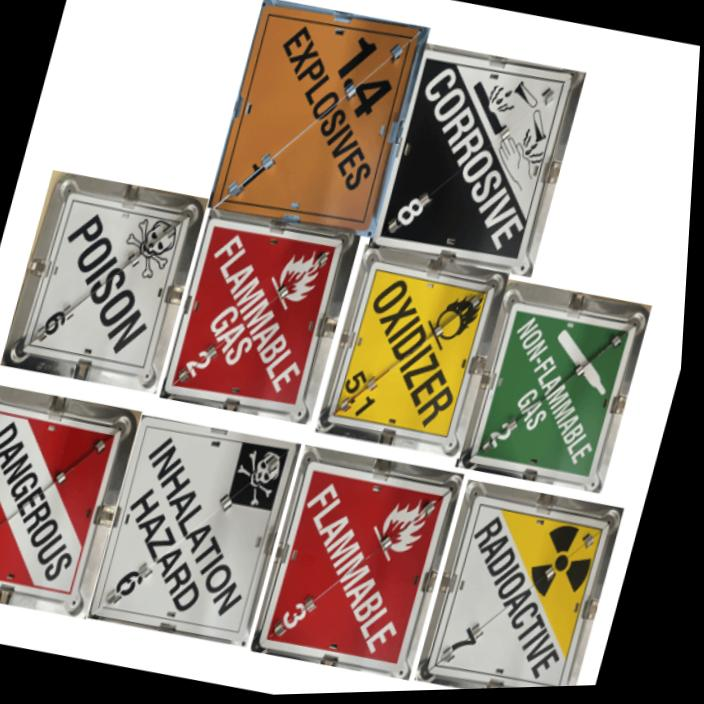bathroom sign: (210, 2, 426, 230)
bench: (164, 216, 351, 420)
building map: (463, 284, 645, 489)
can and bottle trash cans: (260, 463, 449, 670)
defibrillator: (333, 269, 491, 437)
door: (91, 418, 297, 641), (19, 188, 188, 380)
doorway: (430, 489, 609, 688)
elevator buttons: (376, 49, 576, 271)
